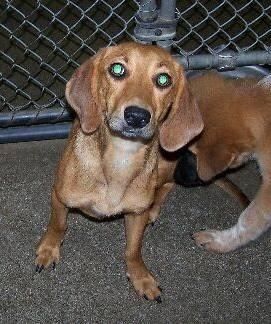dog: (36, 42, 270, 299)
